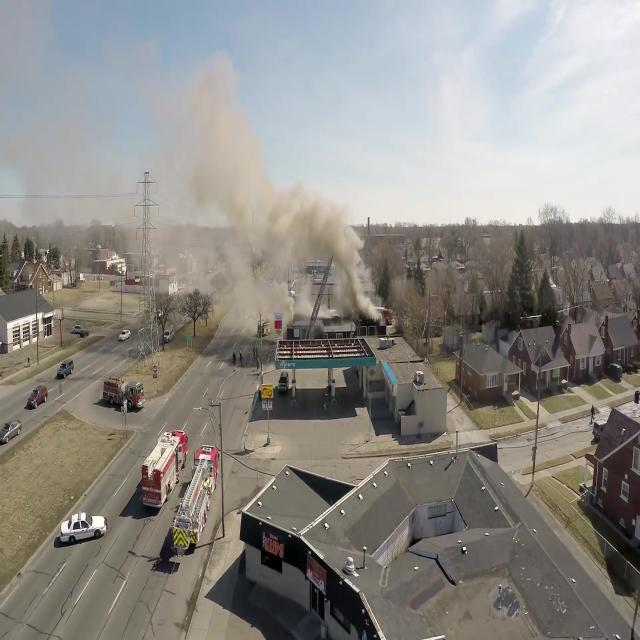Smoke: (162, 90, 396, 336)
